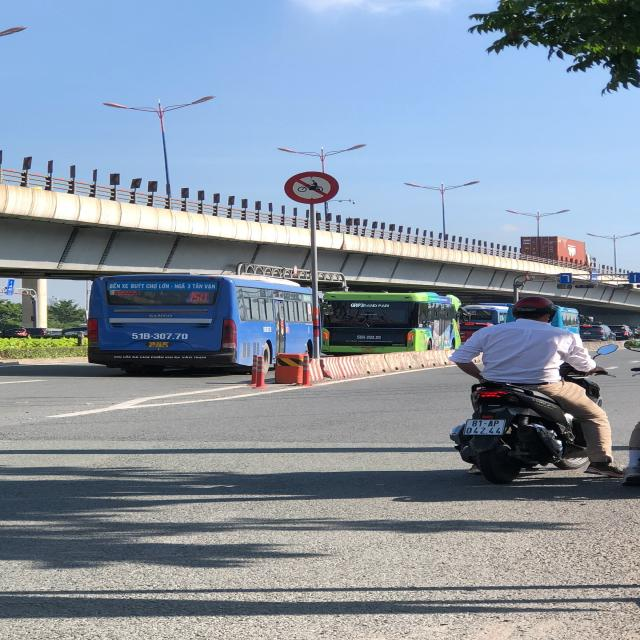Bien bao cam xe may: (277, 170, 341, 202)
